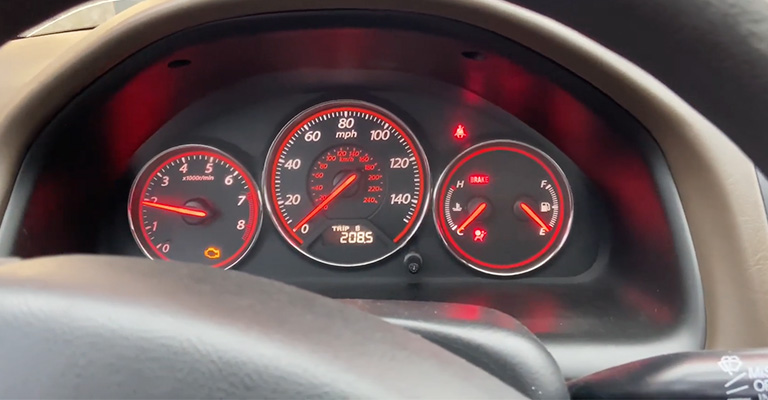Airbag_warning: (472, 226, 491, 245)
Seatbelt_warning: (451, 122, 471, 145)
